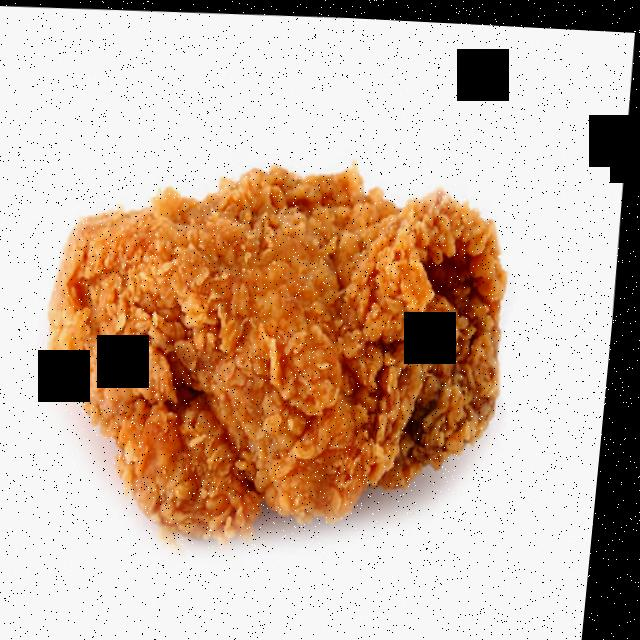Frango: (32, 142, 531, 552)
